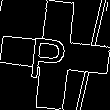P_N: (34, 28, 76, 82)
